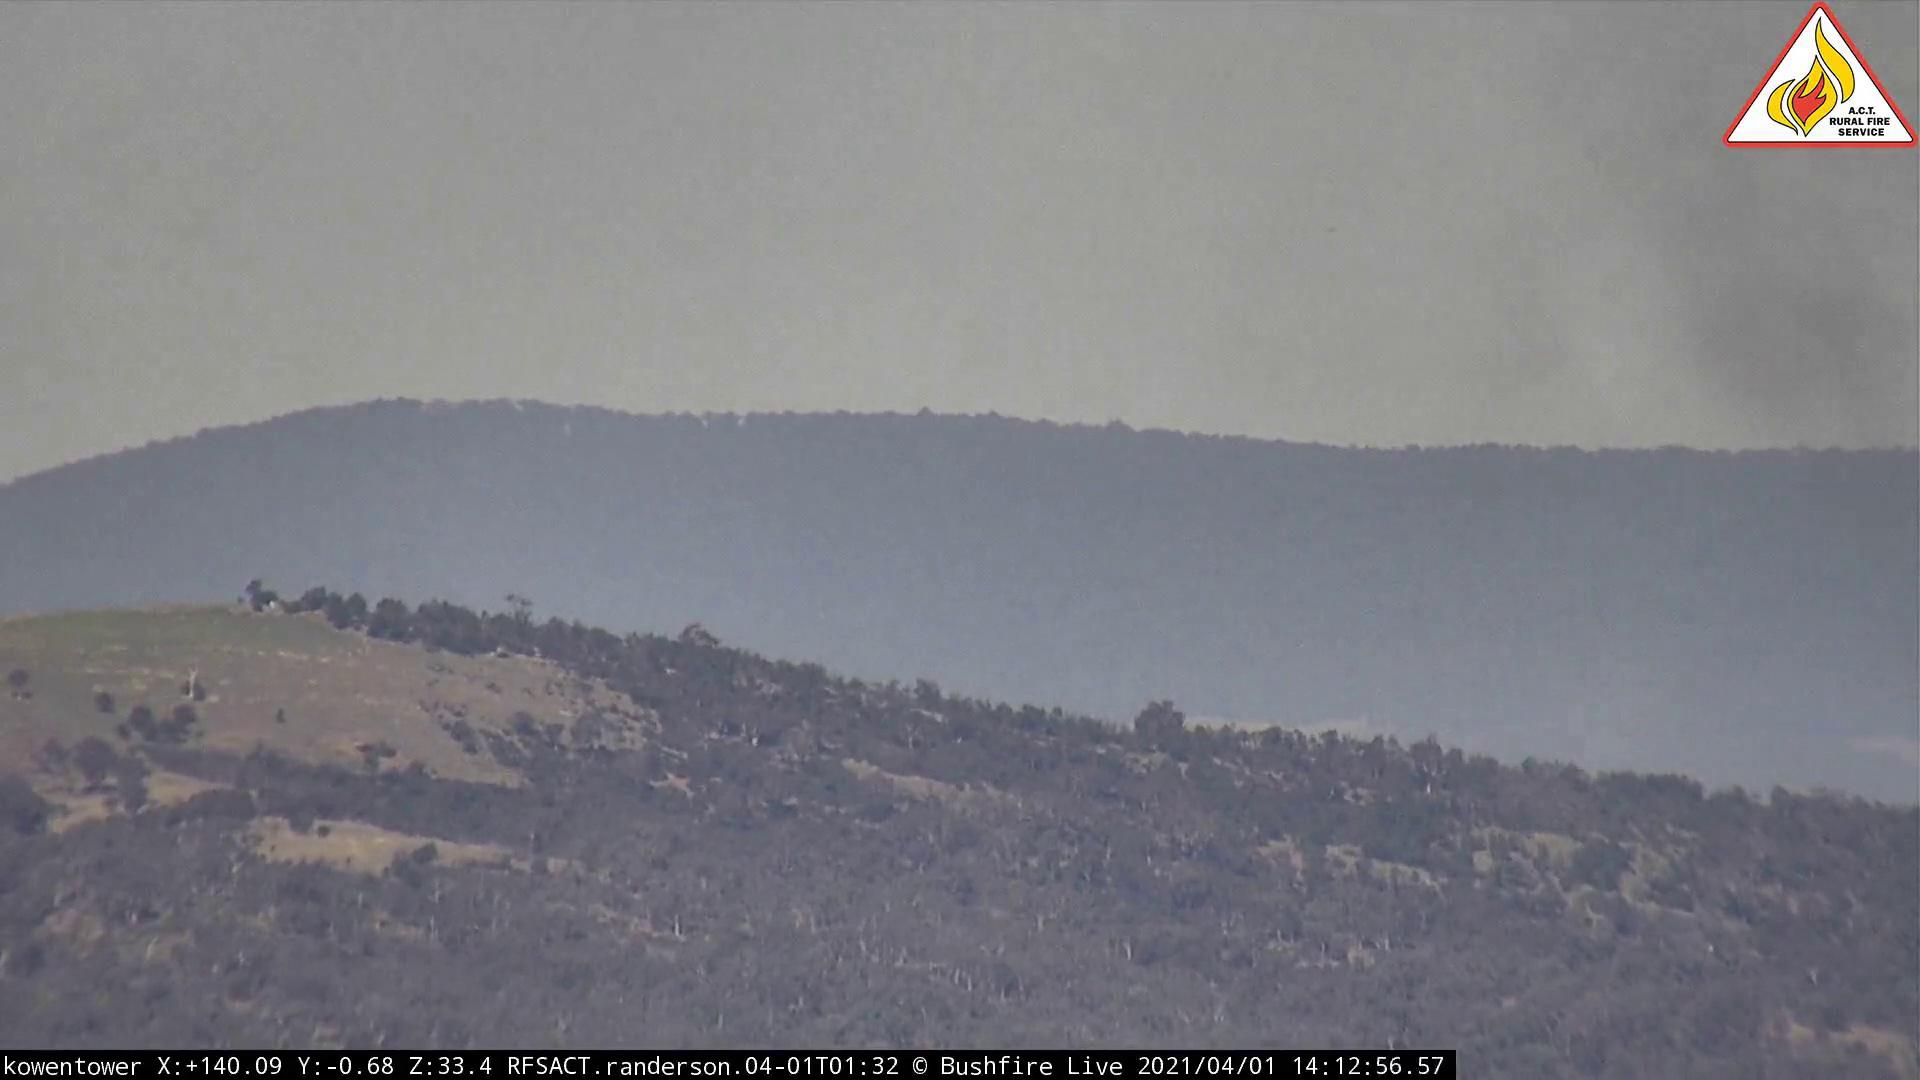Smoke: (1360, 165, 1920, 775)
